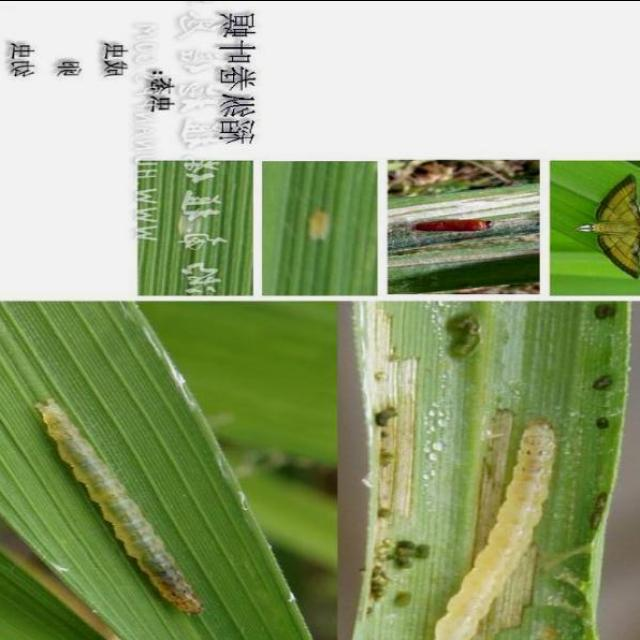leaf folder: (37, 398, 202, 613), (432, 423, 556, 640)
